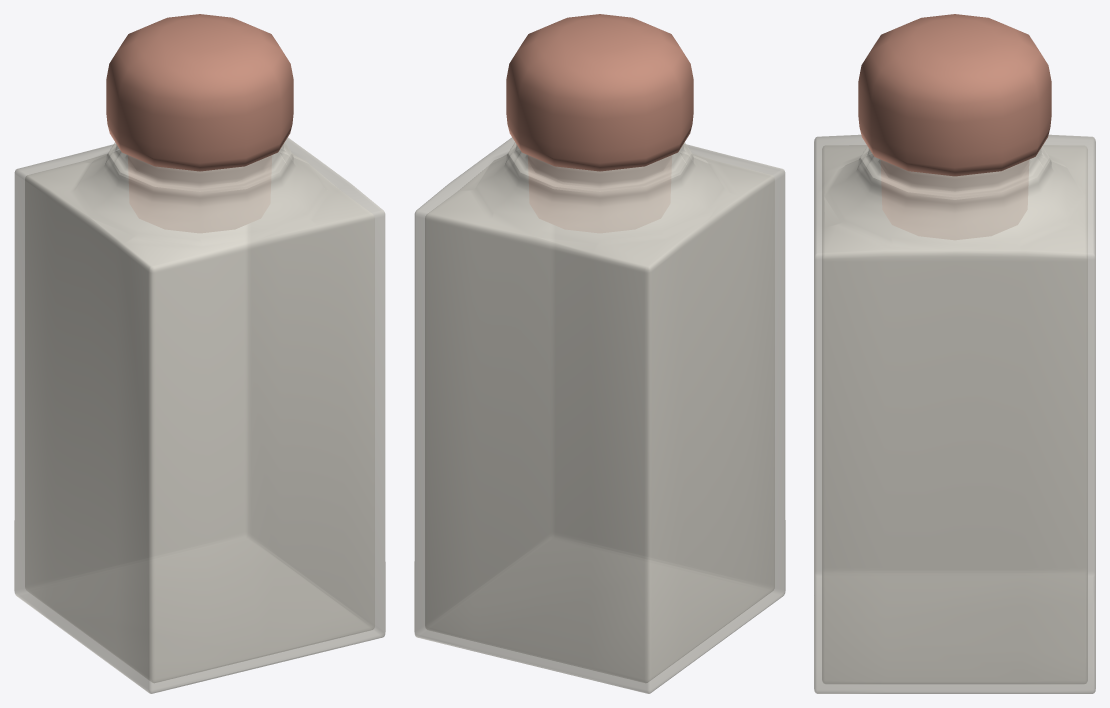
File: frascoQuadrado.fbx
The picture shows the model from 3 angles, left to right: view 1: azimuth 30°, elevation 25°; view 2: azimuth 150°, elevation 25°; view 3: azimuth 270°, elevation 25°; orthographic projection. The views are drawn at different scales.
Parts seen in each view (by area): view 1: Frasco Quadrado, Rolha; view 2: Frasco Quadrado, Rolha; view 3: Frasco Quadrado, Rolha.
Boxes of the visible parts, bbox=[...] form: Frasco Quadrado: bbox=[14, 137, 385, 693]; Rolha: bbox=[106, 14, 293, 232]; Frasco Quadrado: bbox=[414, 137, 785, 693]; Rolha: bbox=[506, 14, 693, 232]; Frasco Quadrado: bbox=[814, 134, 1095, 693]; Rolha: bbox=[858, 14, 1051, 239].
Size of the model in its own units: 200 by 471 by 200.
